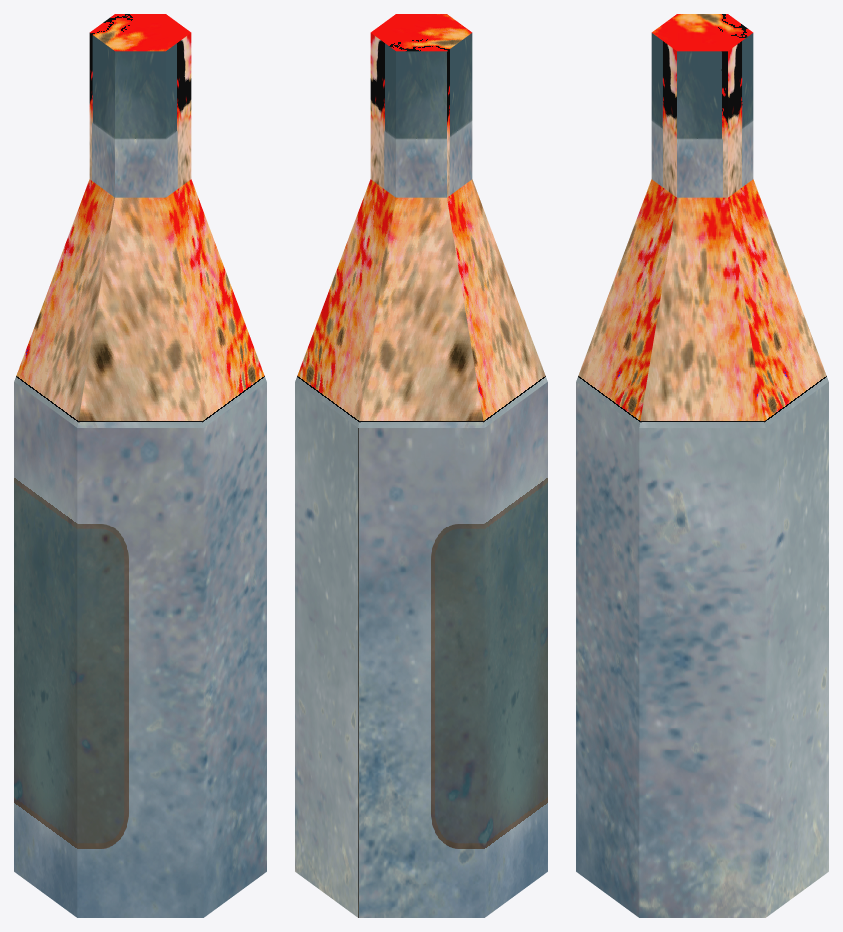
The model's file is beerbottle.glb.
3 renders of one model, left to right at view 1: azimuth 30°, elevation 25°; view 2: azimuth 150°, elevation 25°; view 3: azimuth 270°, elevation 25°, orthographic.
Visible parts, largest first — view 1: Cylinder.002; view 2: Cylinder.002; view 3: Cylinder.002.
Boxes of the visible parts, x1,y1,x2,y2 form: Cylinder.002: (14,14,266,917); Cylinder.002: (295,14,547,917); Cylinder.002: (576,14,828,917).
Bounding box in the file's own units: 0.1073 × 0.4542 × 0.1239.
Materials: 1 (1 with a texture image).
